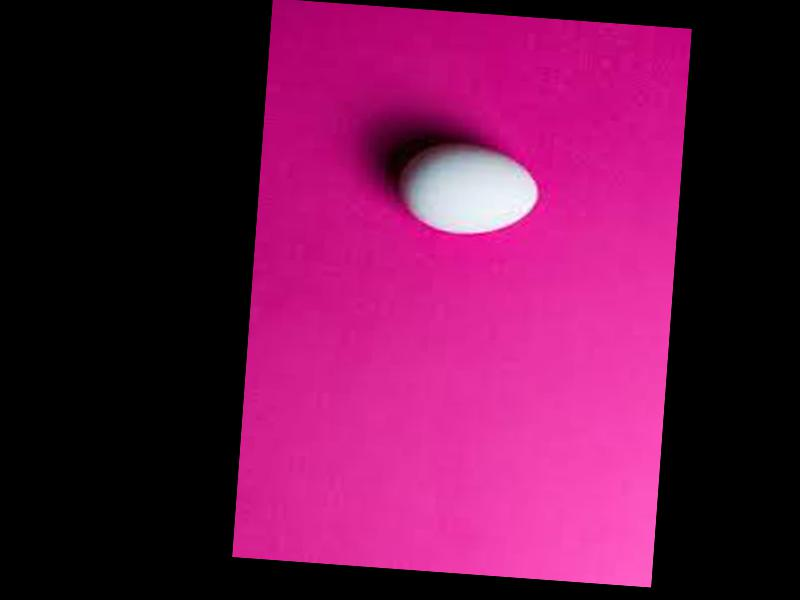Eggs: (396, 140, 541, 239)
